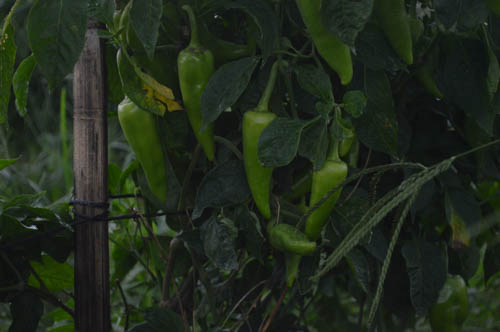ChiliPepper: (121, 102, 167, 198), (176, 49, 215, 155), (300, 6, 352, 85), (241, 110, 274, 214), (309, 160, 350, 234), (373, 3, 412, 63), (434, 273, 469, 326), (267, 224, 316, 255)
